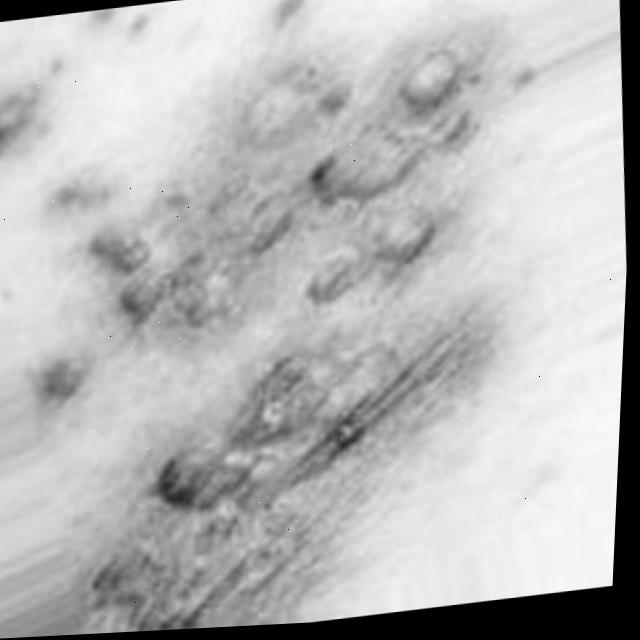Shingles: (2, 27, 506, 638)
